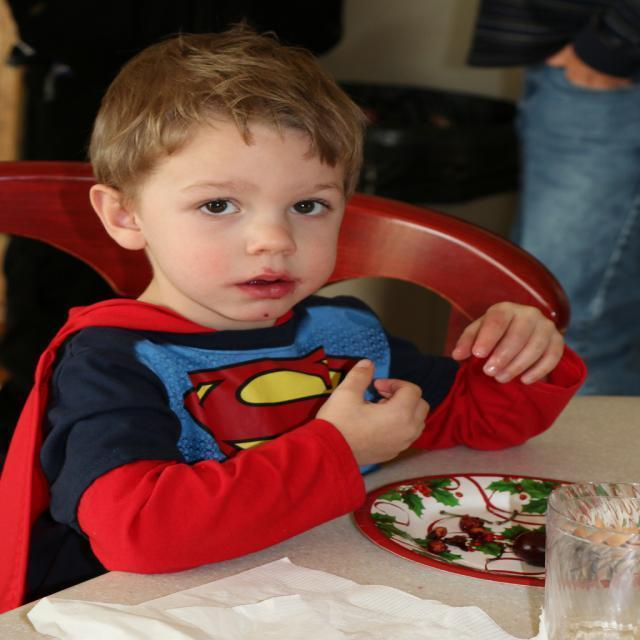closed-mouth: (232, 267, 301, 300)
